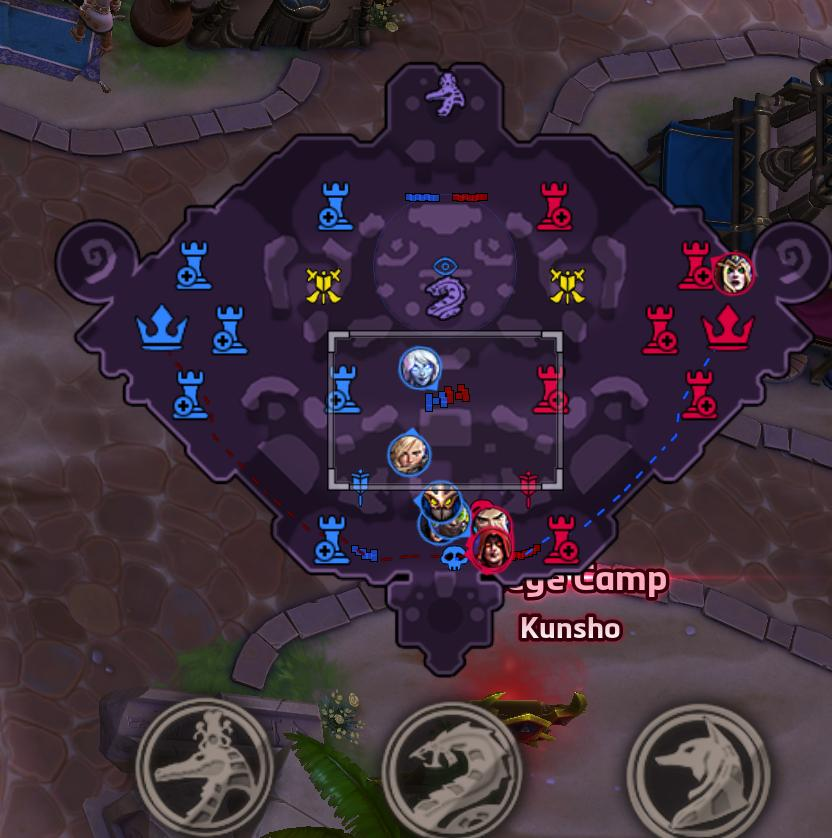blue nexus: (134, 302, 190, 351)
blue player: (387, 430, 430, 477), (419, 480, 463, 524), (398, 346, 441, 391)
blue tower: (171, 367, 210, 420), (316, 179, 354, 231), (211, 303, 249, 354), (324, 363, 361, 415), (175, 238, 212, 290), (313, 513, 350, 563)
red nexus: (700, 303, 755, 352)
red player: (469, 499, 513, 546), (712, 251, 755, 296), (473, 525, 514, 572)
red tower: (676, 240, 716, 292), (678, 368, 717, 420), (640, 303, 678, 356), (531, 363, 569, 415), (535, 180, 573, 232)
